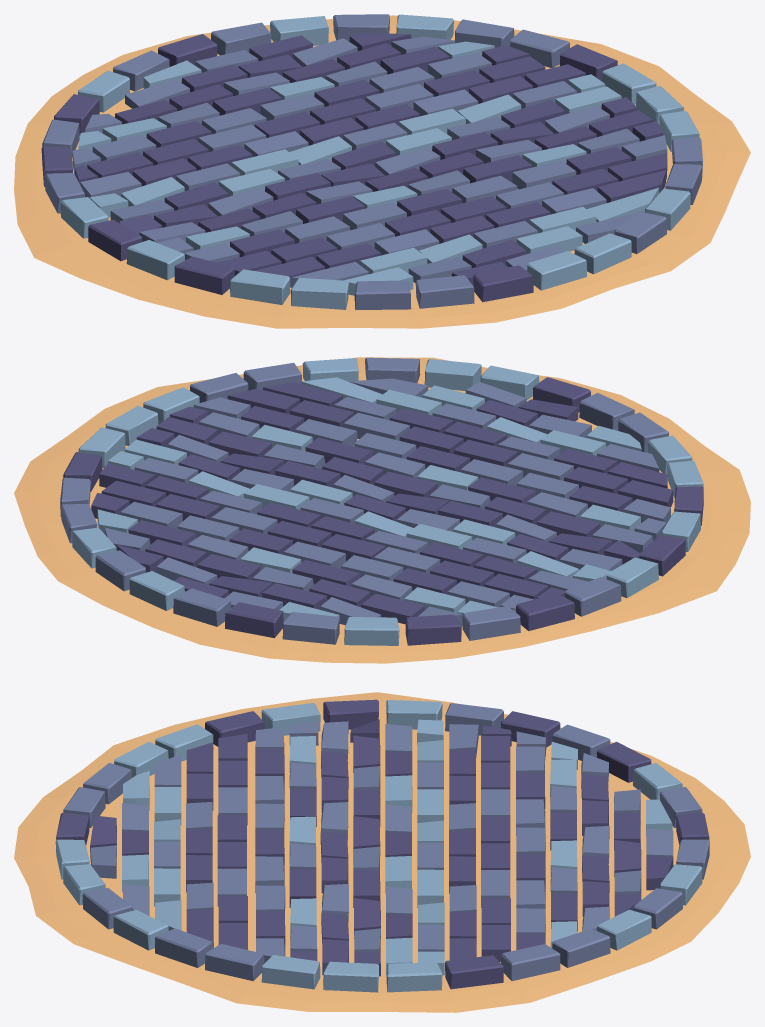
The model's file is Floor Rounded 01.fbx.
3 views of the same model, one above another, from view 1: azimuth 30°, elevation 25°; view 2: azimuth 150°, elevation 25°; view 3: azimuth 270°, elevation 25° (orthographic). The views are drawn at different scales.
Parts seen in each view (by area): view 1: Floor Rounded 01, Floor Rounded 01 Sand; view 2: Floor Rounded 01, Floor Rounded 01 Sand; view 3: Floor Rounded 01, Floor Rounded 01 Sand.
Boxes of the visible parts, left/top/right/bottom form: Floor Rounded 01: left=41, top=14, right=702, bottom=310; Floor Rounded 01 Sand: left=14, top=15, right=750, bottom=328; Floor Rounded 01: left=60, top=357, right=703, bottom=645; Floor Rounded 01 Sand: left=14, top=357, right=750, bottom=663; Floor Rounded 01: left=55, top=699, right=709, bottom=992; Floor Rounded 01 Sand: left=14, top=692, right=750, bottom=1012.
Size of the model in its own units: 1190 by 35.03 by 1156.
